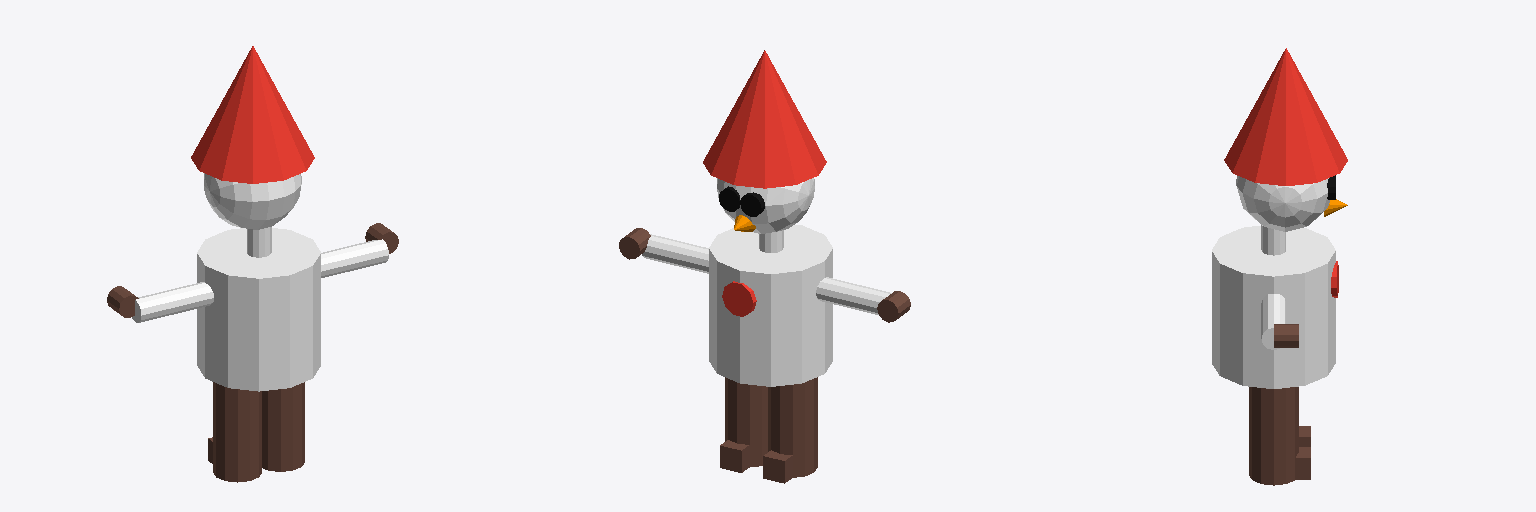
The model's file is model-triangulated.obj.
3 renders of one model, left to right at view 1: azimuth 30°, elevation 25°; view 2: azimuth 150°, elevation 25°; view 3: azimuth 270°, elevation 25°, orthographic.
Visible parts, largest first — view 1: group[number redacted], group[number redacted], group[number redacted], group[number redacted], group[number redacted], group[number redacted], group[number redacted], group[number redacted], group[number redacted], group[number redacted]; view 2: group[number redacted], group[number redacted], group[number redacted], group[number redacted], group[number redacted], group[number redacted], group[number redacted], group[number redacted], group[number redacted], group[number redacted], group[number redacted], group[number redacted]; view 3: group[number redacted], group[number redacted], group[number redacted], group[number redacted], group[number redacted], group[number redacted], group[number redacted].
Part boxes in pixels (bbox=[...]): group[number redacted]: bbox=[197, 228, 320, 391]; group[number redacted]: bbox=[191, 46, 314, 183]; group[number redacted]: bbox=[213, 382, 261, 482]; group[number redacted]: bbox=[204, 173, 301, 229]; group[number redacted]: bbox=[262, 382, 304, 471]; group[number redacted]: bbox=[132, 282, 213, 322]; group[number redacted]: bbox=[321, 239, 388, 277]; group[number redacted]: bbox=[247, 227, 271, 257]; group[number redacted]: bbox=[107, 286, 138, 317]; group[number redacted]: bbox=[365, 223, 398, 253]; group[number redacted]: bbox=[709, 225, 832, 386]; group[number redacted]: bbox=[703, 50, 826, 188]; group[number redacted]: bbox=[768, 377, 817, 477]; group[number redacted]: bbox=[725, 377, 767, 466]; group[number redacted]: bbox=[717, 178, 814, 233]; group[number redacted]: bbox=[816, 277, 891, 314]; group[number redacted]: bbox=[642, 234, 708, 273]; group[number redacted]: bbox=[722, 281, 756, 316]; group[number redacted]: bbox=[763, 450, 792, 483]; group[number redacted]: bbox=[720, 440, 749, 472]; group[number redacted]: bbox=[877, 291, 910, 322]; group[number redacted]: bbox=[619, 228, 650, 259]; group[number redacted]: bbox=[1212, 226, 1335, 388]; group[number redacted]: bbox=[1224, 48, 1347, 185]; group[number redacted]: bbox=[1249, 387, 1298, 485]; group[number redacted]: bbox=[1236, 176, 1329, 231]; group[number redacted]: bbox=[1261, 294, 1285, 349]; group[number redacted]: bbox=[1261, 225, 1285, 255]; group[number redacted]: bbox=[1274, 324, 1298, 347].
Size of the model in its own units: 0.2599 by 0.37 by 0.11.